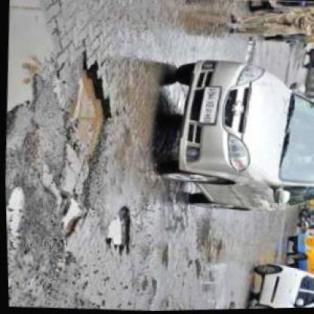Hueco: (46, 50, 119, 241), (0, 0, 60, 149), (100, 206, 134, 258), (4, 185, 25, 243)
